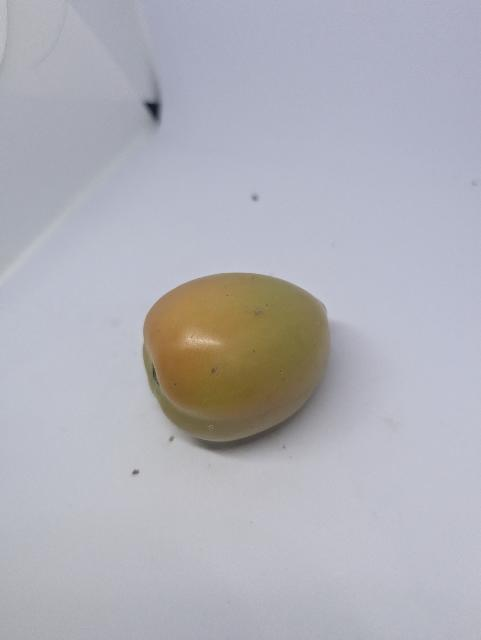breaker: (144, 273, 331, 442)
